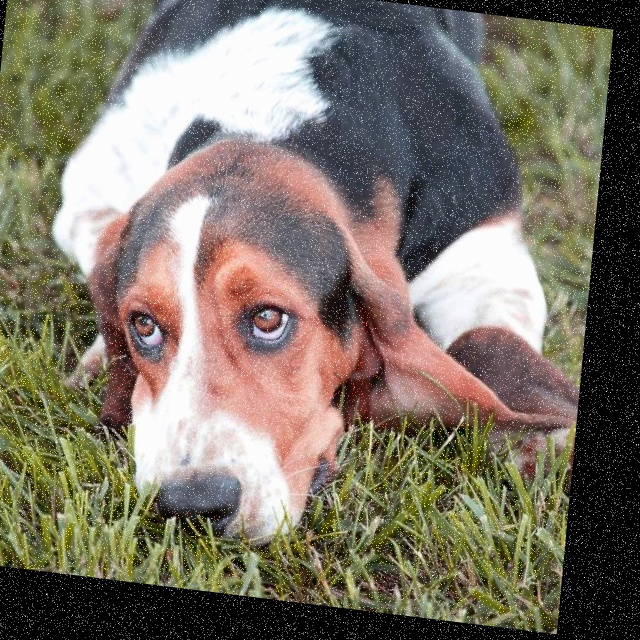dog: (11, 0, 563, 624)
